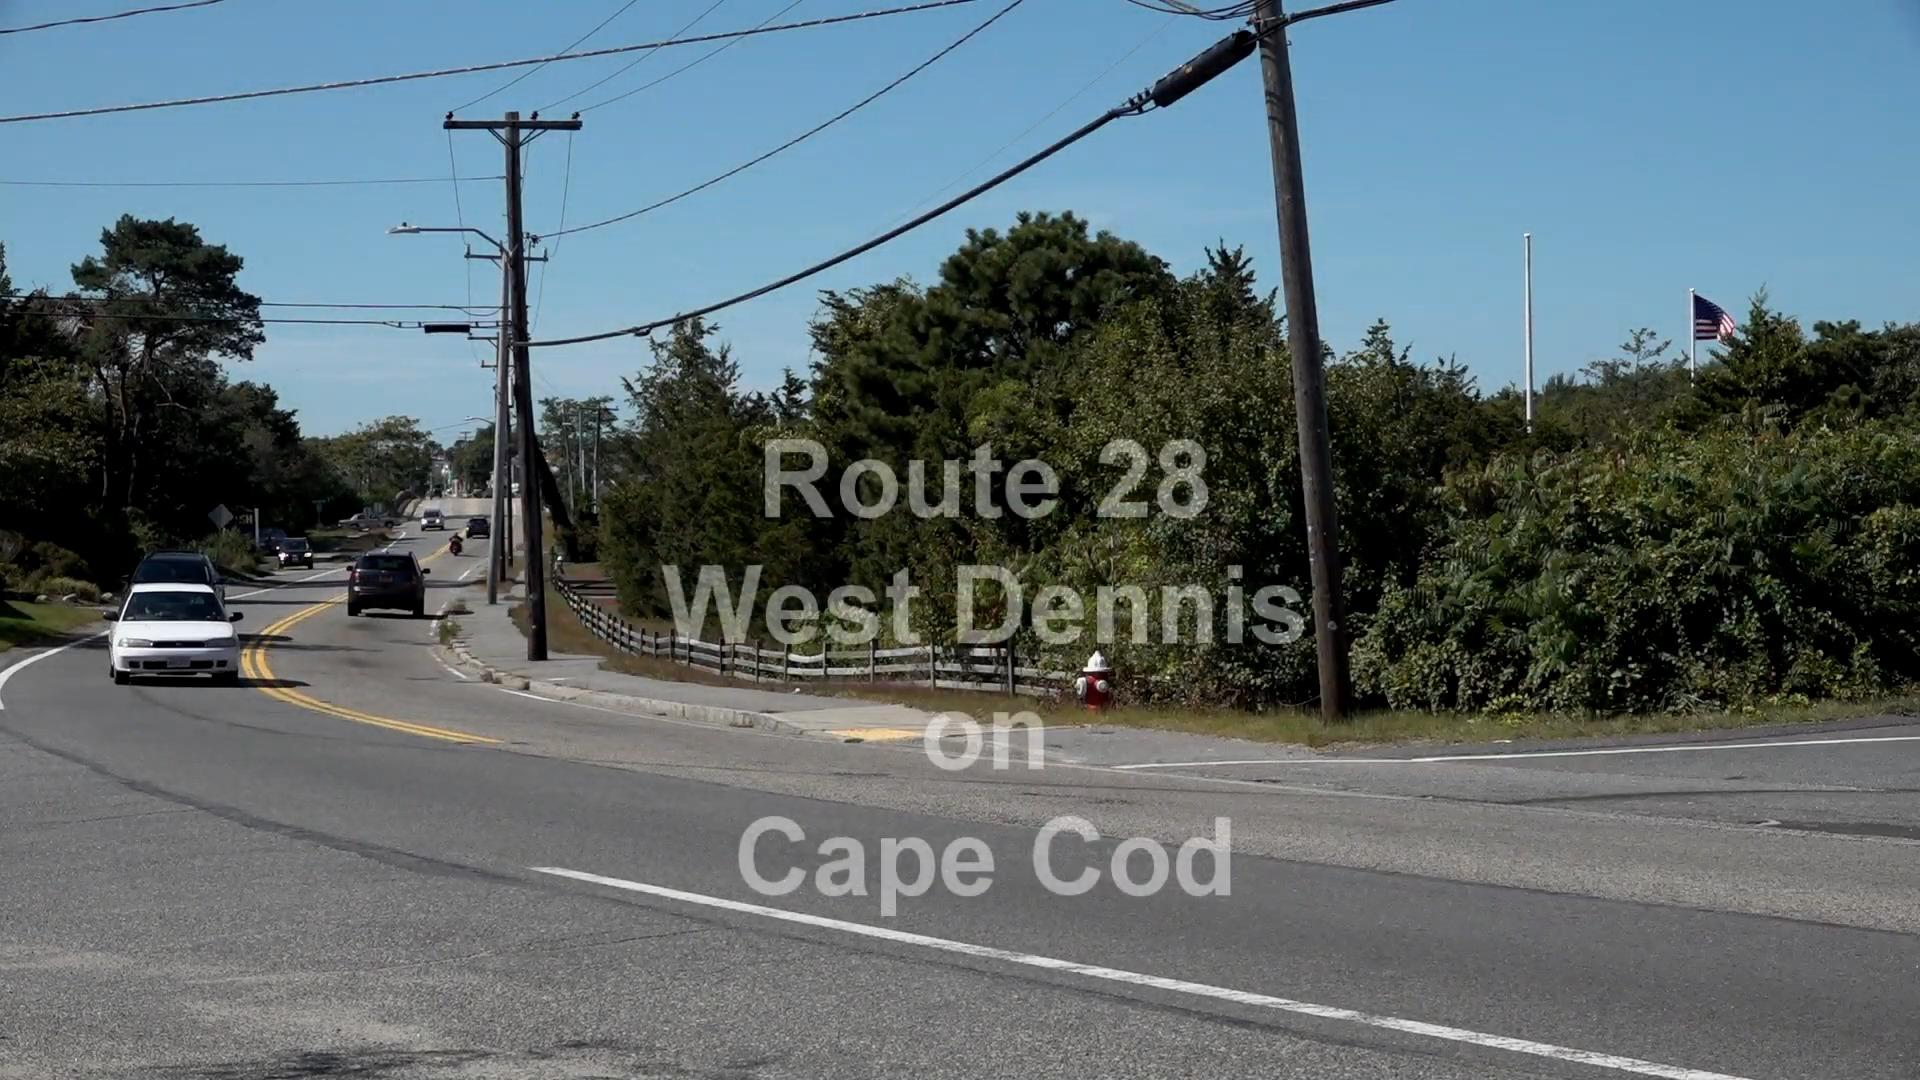sedans: (107, 580, 240, 690)
suv: (352, 551, 430, 618)
